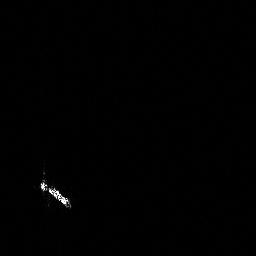ship: (36, 174, 73, 211)
